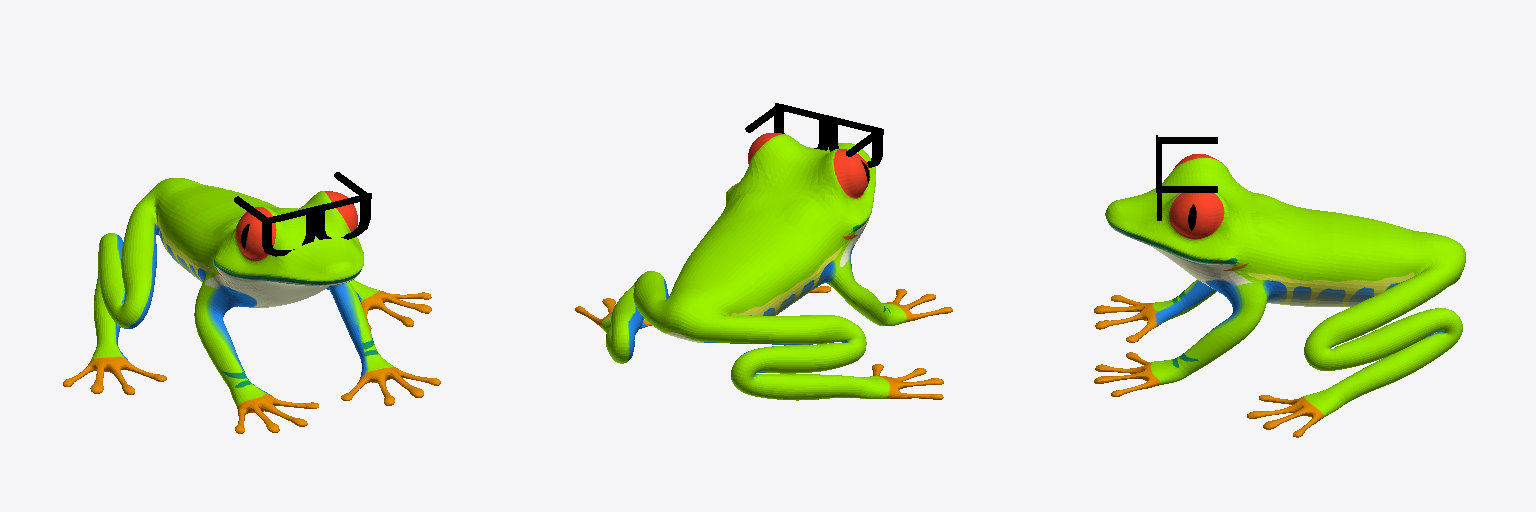
3 renders of one model, left to right at view 1: azimuth 30°, elevation 25°; view 2: azimuth 150°, elevation 25°; view 3: azimuth 270°, elevation 25°, orthographic.
Parts seen in each view (by area): view 1: Object.6, Object.2, Object.3; view 2: Object.6, Object.2; view 3: none.
Boxes of the visible parts, x1=… form: Object.6: x1=263, y1=193, x2=371, y2=224; Object.2: x1=262, y1=213, x2=316, y2=256; Object.3: x1=316, y1=200, x2=370, y2=239; Object.6: x1=775, y1=103, x2=883, y2=134; Object.2: x1=828, y1=121, x2=882, y2=167.
Size of the model in its own units: 27.38 by 13.5 by 24.02.
1 materials, 1 textured.